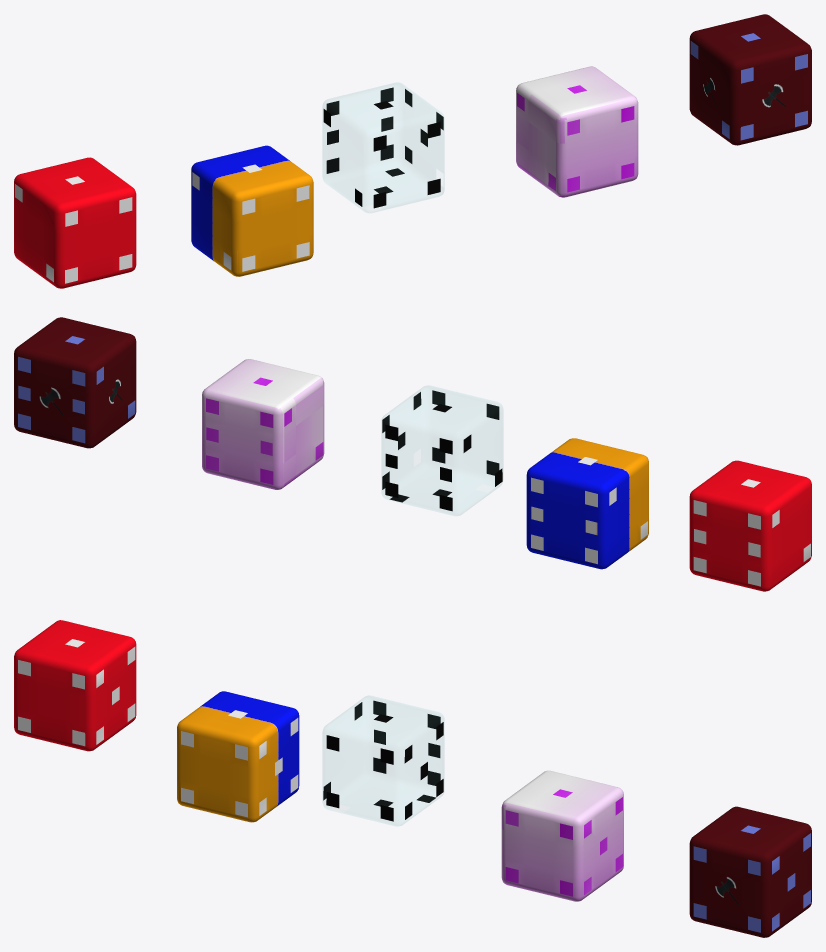
Rendered from Dices.fbx.
3 views of the same model, one above another, from view 1: azimuth 30°, elevation 25°; view 2: azimuth 150°, elevation 25°; view 3: azimuth 330°, elevation 25° (orthographic).
Parts seen in each view (by area): view 1: Poison, ExecutionDice, HealthDice, ChipDIce, Glass; view 2: HealthDice, ExecutionDice, ChipDIce, Poison, Glass; view 3: ExecutionDice, Poison, HealthDice, ChipDIce, Glass.
Part boxes in pixels (x1,y1,x2,y2): Poison: (516, 66, 638, 197); ExecutionDice: (689, 14, 811, 145); HealthDice: (14, 157, 136, 288); ChipDIce: (191, 145, 313, 276); Glass: (323, 83, 443, 212); HealthDice: (689, 460, 811, 591); ExecutionDice: (14, 317, 136, 448); ChipDIce: (526, 438, 648, 569); Poison: (202, 359, 324, 489); Glass: (382, 386, 502, 515); ExecutionDice: (689, 806, 811, 937); Poison: (501, 770, 623, 901); HealthDice: (14, 620, 136, 751); ChipDIce: (177, 691, 299, 822); Glass: (323, 696, 443, 825).
Size of the model in its own units: 1859 by 257 by 230.
